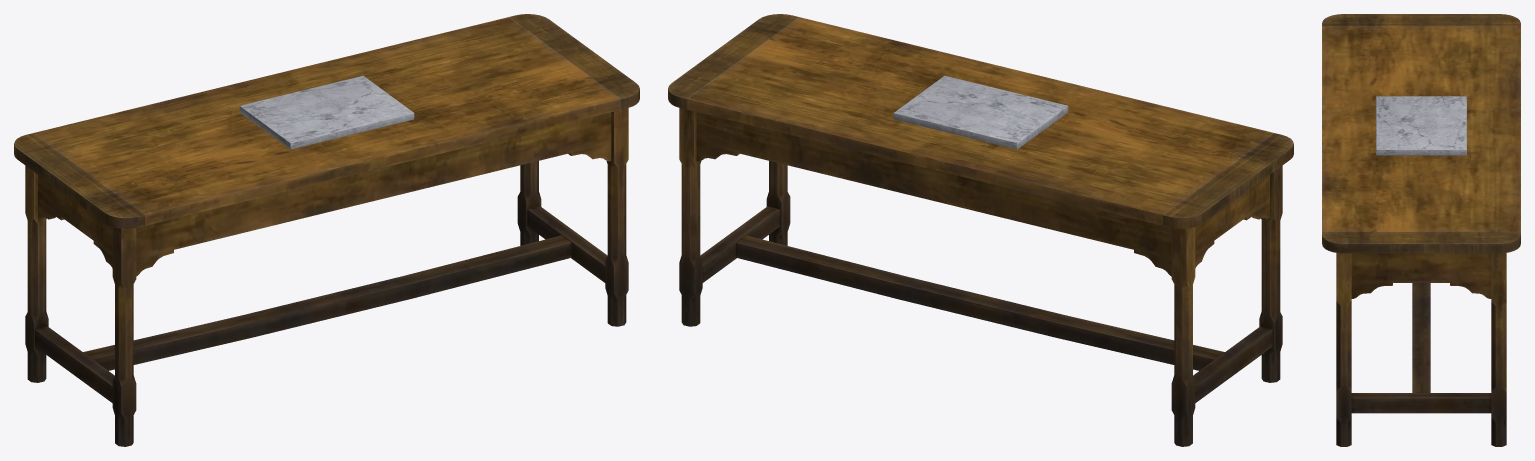
The model's file is zubehoer.glb.
3 views of the same model, side by side, from view 1: azimuth 30°, elevation 25°; view 2: azimuth 150°, elevation 25°; view 3: azimuth 270°, elevation 25° (orthographic). The views are drawn at different scales.
Parts seen in each view (by area): view 1: WoodenTable_01, stein; view 2: WoodenTable_01, stein; view 3: WoodenTable_01, stein.
Part boxes in pixels (x1,y1,x2,y2): WoodenTable_01: (14, 14, 639, 446); stein: (239, 75, 414, 149); WoodenTable_01: (668, 14, 1293, 446); stein: (893, 75, 1068, 149); WoodenTable_01: (1322, 14, 1520, 446); stein: (1376, 96, 1466, 155).
Bounding box in the file's own units: 1.8 × 0.782 × 0.6571.
Materials: 2 (2 with a texture image).
